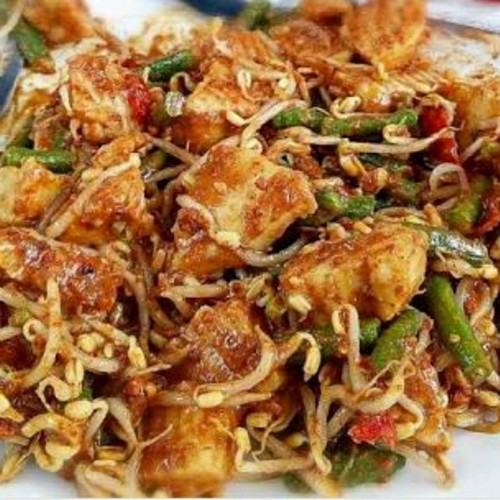tipat cantok: (12, 40, 476, 490)
